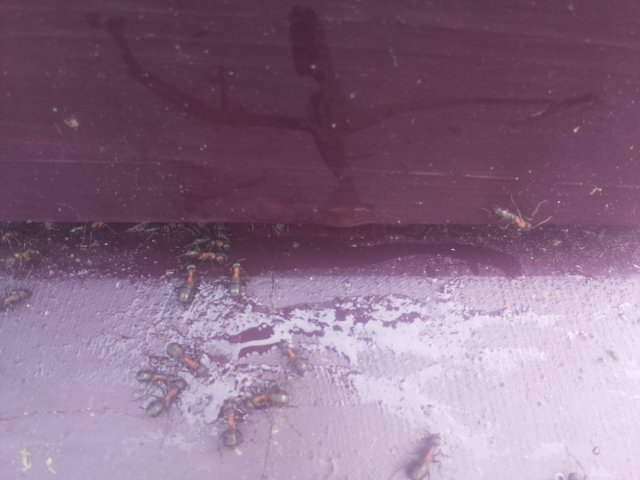ant: (158, 328, 217, 391), (399, 429, 447, 480), (139, 376, 189, 423), (274, 331, 312, 381), (488, 200, 534, 237), (244, 384, 297, 413), (173, 258, 203, 309), (218, 405, 245, 451), (225, 260, 246, 298), (0, 287, 34, 306)
